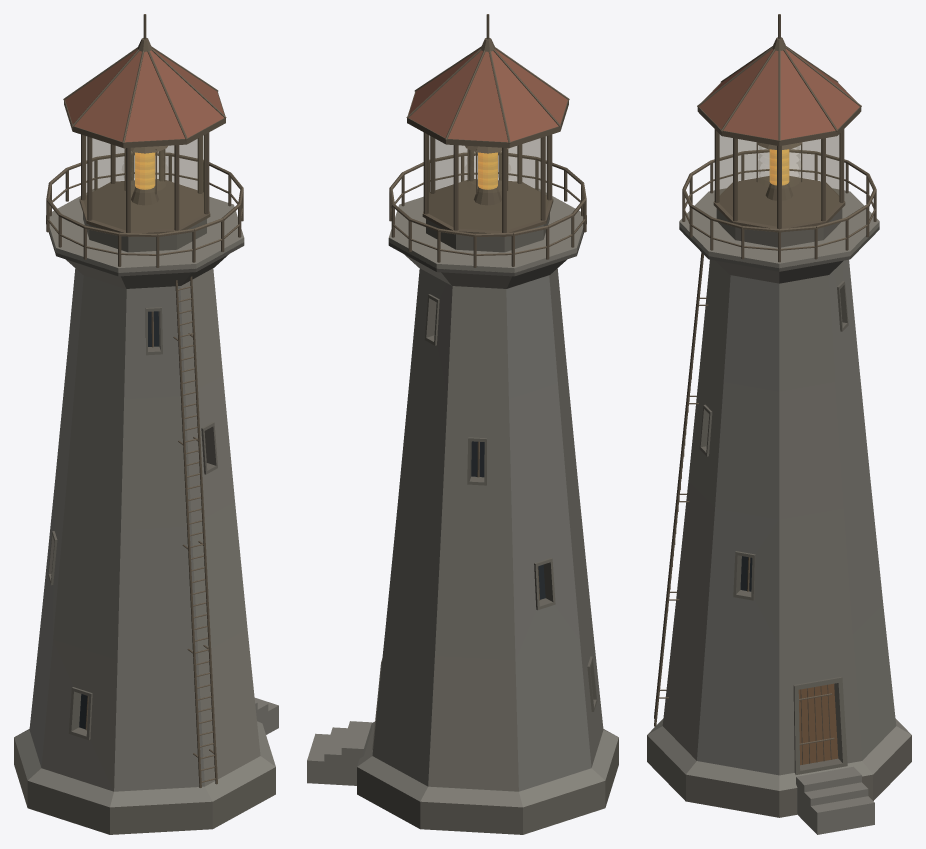
File: lighthouse.glb
3 renders of one model, left to right at view 1: azimuth 30°, elevation 25°; view 2: azimuth 150°, elevation 25°; view 3: azimuth 270°, elevation 25°, orthographic. The views are drawn at different scales.
Visible parts, largest first — view 1: Opaque_Limestone 1, Opaque_Limestone 0, Opaque_Limestone 2, Opaque_Dark forged bronze, Opaque_Weathered sandstone edges, Opaque_Oxidised terracotta roof, Opaque_Limestone 3, Lantern glazed panel 5, Lantern glazed panel 4, Opaque_Deep weathered gallery corbel stone, Lantern glazed panel 6, Lantern glazed panel 0 (+3 smaller); view 2: Opaque_Limestone 2, Opaque_Limestone 1, Opaque_Limestone 3, Opaque_Dark forged bronze, Opaque_Weathered sandstone edges, Opaque_Oxidised terracotta roof, Opaque_Limestone 0, Lantern glazed panel 2, Lantern glazed panel 3, Opaque_Deep weathered gallery corbel stone, Lantern glazed panel 1, Lantern glazed panel 7 (+3 smaller); view 3: Opaque_Limestone 3, Opaque_Limestone 0, Opaque_Limestone 1, Opaque_Limestone 2, Opaque_Dark forged bronze, Opaque_Weathered sandstone edges, Opaque_Oxidised terracotta roof, Lantern glazed panel 0, Lantern glazed panel 7, Opaque_Oak door boards, Opaque_Deep weathered gallery corbel stone, Lantern glazed panel 1 (+6 smaller).
Boxes of the visible parts, x1,y1,x2,y2 form: Opaque_Limestone 1: (14, 286, 278, 807); Opaque_Limestone 0: (41, 275, 126, 791); Opaque_Limestone 2: (46, 188, 260, 786); Opaque_Dark forged bronze: (46, 14, 243, 787); Opaque_Weathered sandstone edges: (14, 213, 275, 834); Opaque_Oxidised terracotta roof: (65, 49, 224, 142); Opaque_Limestone 3: (29, 268, 83, 767); Lantern glazed panel 5: (131, 145, 174, 230); Lantern glazed panel 4: (91, 138, 125, 229); Opaque_Deep weathered gallery corbel stone: (46, 221, 244, 288); Lantern glazed panel 6: (179, 134, 205, 226); Lantern glazed panel 0: (166, 140, 196, 189); Opaque_Limestone 2: (388, 188, 586, 791); Opaque_Limestone 1: (307, 268, 618, 807); Opaque_Limestone 3: (506, 275, 591, 791); Opaque_Dark forged bronze: (389, 14, 586, 600); Opaque_Weathered sandstone edges: (357, 213, 618, 834); Opaque_Oxidised terracotta roof: (408, 49, 567, 142); Opaque_Limestone 0: (549, 268, 603, 767); Lantern glazed panel 2: (458, 145, 501, 230); Lantern glazed panel 3: (507, 138, 541, 229); Opaque_Deep weathered gallery corbel stone: (388, 221, 586, 288); Lantern glazed panel 1: (427, 134, 453, 226); Lantern glazed panel 7: (436, 140, 466, 189); Opaque_Limestone 3: (697, 275, 779, 775); Opaque_Limestone 0: (779, 275, 861, 775); Opaque_Limestone 1: (647, 259, 911, 834); Opaque_Limestone 2: (662, 188, 879, 760); Opaque_Dark forged bronze: (654, 14, 876, 764); Opaque_Weathered sandstone edges: (647, 208, 911, 817); Opaque_Oxidised terracotta roof: (699, 49, 859, 140); Lantern glazed panel 0: (782, 139, 821, 226); Lantern glazed panel 7: (737, 139, 776, 226); Opaque_Oak door boards: (798, 683, 838, 765); Opaque_Deep weathered gallery corbel stone: (679, 226, 879, 283); Lantern glazed panel 1: (826, 132, 841, 216).
Size of the model in its own units: 9.26 by 25 by 8.03.
